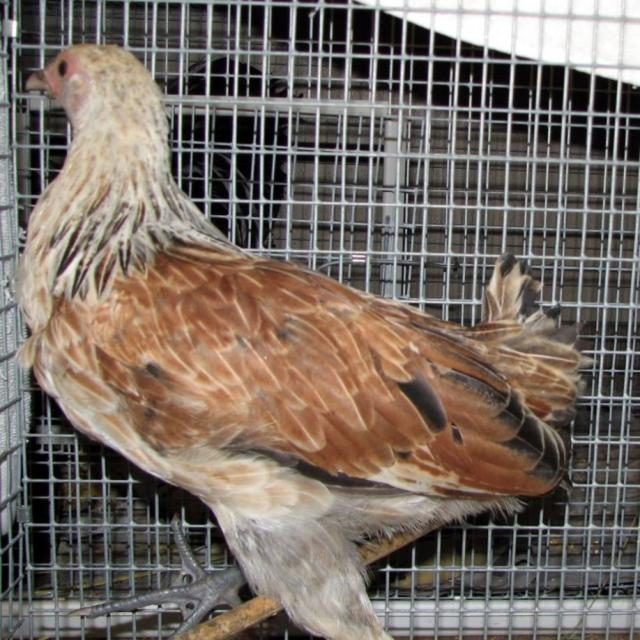Chicken: (6, 33, 583, 606)
